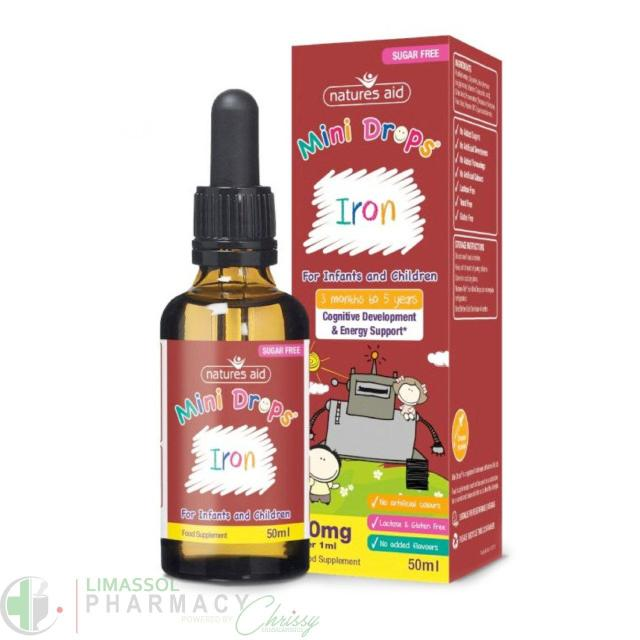formula-milk: (165, 328, 313, 572)
mini-drop: (300, 40, 503, 570)
